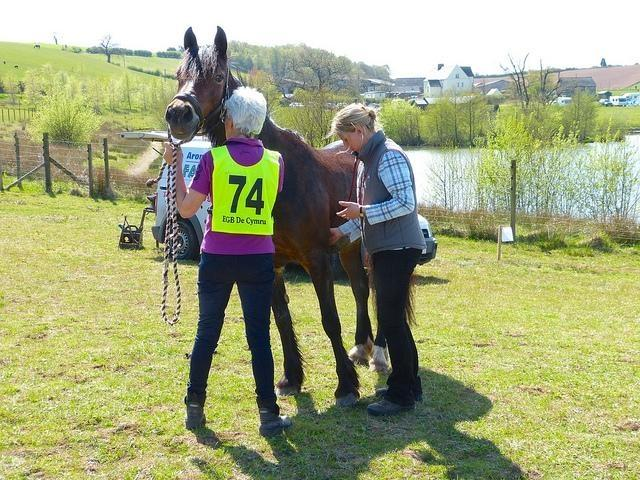car: (152, 164, 212, 260), (414, 212, 434, 262), (610, 95, 626, 107), (598, 98, 614, 106), (334, 102, 348, 110), (548, 100, 558, 105)
